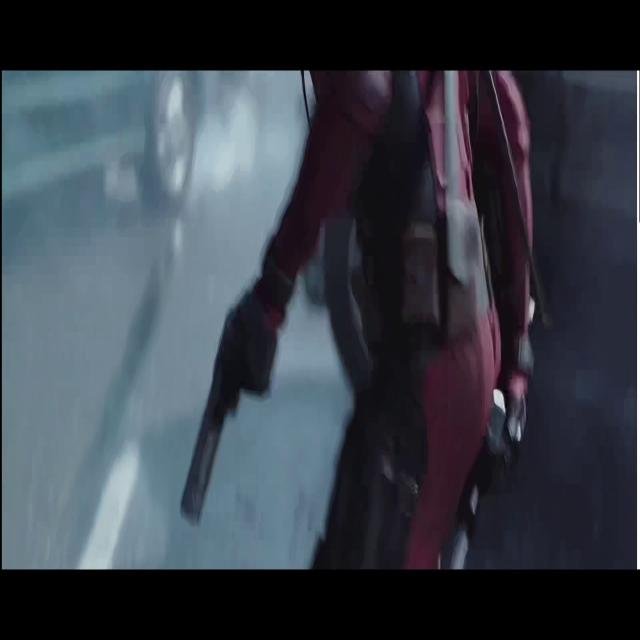weapons: (176, 286, 272, 534)
